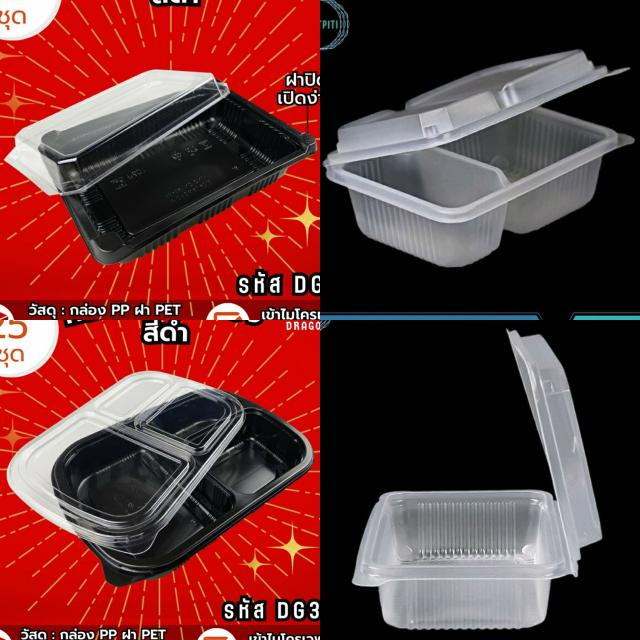Single-Use-Plastic: (352, 331, 601, 628), (325, 51, 631, 266), (8, 371, 314, 586), (6, 70, 315, 264)
